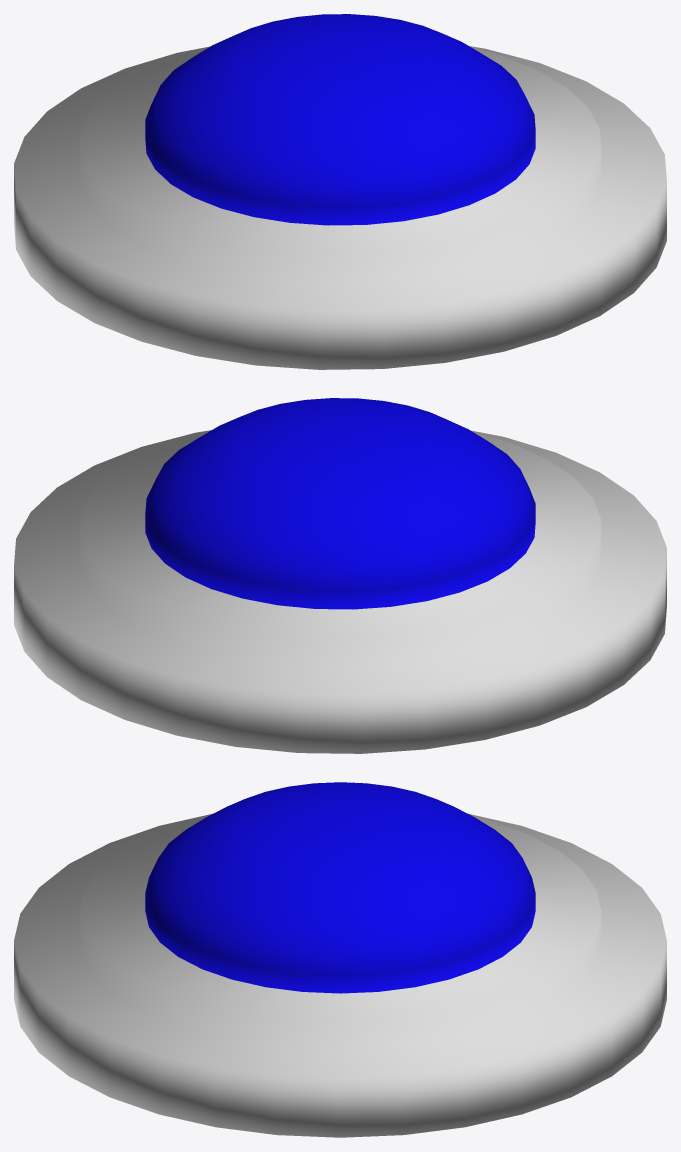
File: GenerateurShield.fbx
3 views of the same model, one above another, from view 1: azimuth 30°, elevation 25°; view 2: azimuth 150°, elevation 25°; view 3: azimuth 270°, elevation 25° (orthographic).
Parts seen in each view (by area): view 1: GenerateurShield; view 2: GenerateurShield; view 3: GenerateurShield.
Boxes of the visible parts, x1,y1,x2,y2 form: GenerateurShield: (14,14,666,369); GenerateurShield: (14,398,666,753); GenerateurShield: (14,782,666,1137).
Bounding box in the file's own units: 0.4149 × 0.4149 × 0.128.
